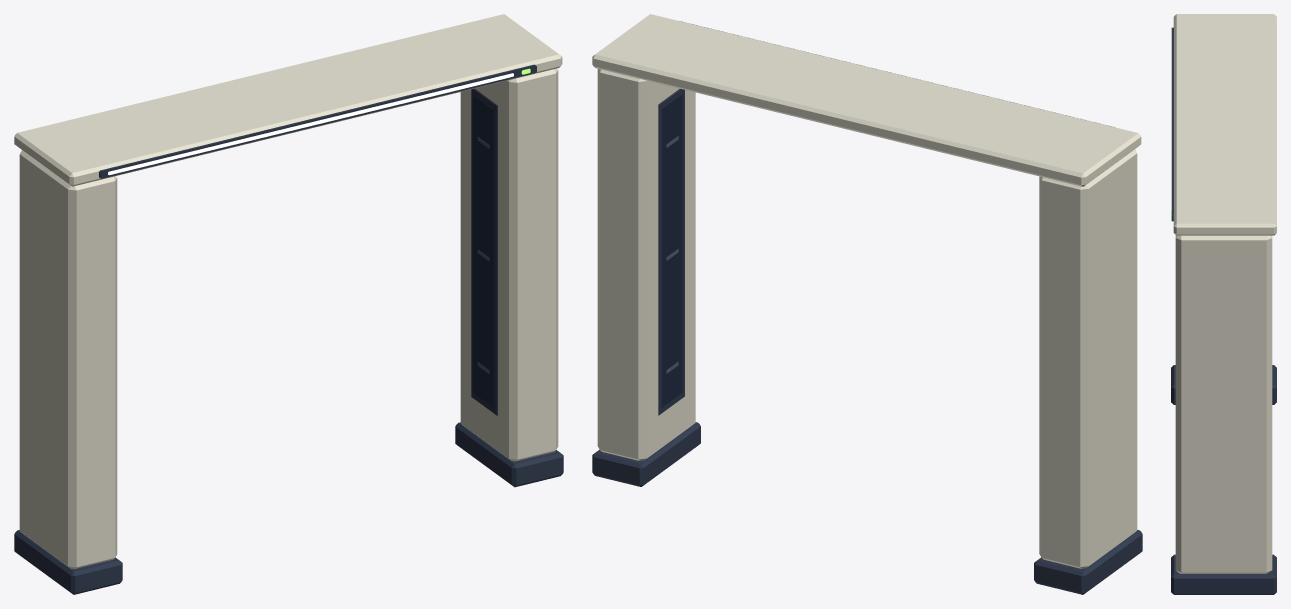
Rendered from bw_entry_scanner.glb.
3 views of the same model, side by side, from view 1: azimuth 30°, elevation 25°; view 2: azimuth 150°, elevation 25°; view 3: azimuth 270°, elevation 25° (orthographic). The views are drawn at different scales.
Parts seen in each view (by area): view 1: lintel, boot, sensor, diffuser; view 2: lintel, boot, sensor; view 3: lintel, boot, diffuser.
Part boxes in pixels (x1,y1,x2,y2): lintel: [14, 14, 562, 568]; boot: [14, 64, 563, 594]; sensor: [473, 95, 494, 408]; diffuser: [108, 73, 513, 175]; lintel: [592, 14, 1141, 568]; boot: [592, 21, 1142, 594]; sensor: [661, 94, 682, 407]; lintel: [1173, 14, 1276, 573]; boot: [1171, 27, 1276, 594]; diffuser: [1171, 32, 1171, 209].
Size of the model in its own units: 3.8 by 3.1 by 0.8.
